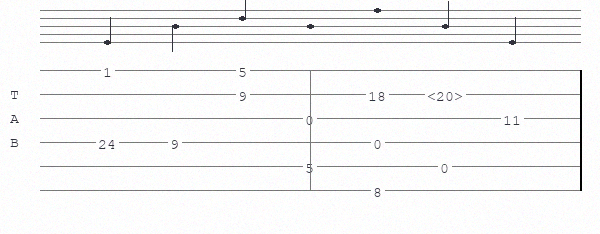0: (305, 112, 318, 125), (373, 136, 386, 149), (440, 160, 453, 173)
1: (103, 64, 116, 77)
11: (503, 112, 525, 125)
18: (368, 88, 390, 101)
24: (98, 136, 120, 149)
5: (238, 64, 251, 77), (305, 160, 318, 173)
8: (373, 184, 386, 197)
9: (170, 136, 183, 149), (238, 88, 251, 101)
harmonic: (427, 88, 467, 101)
